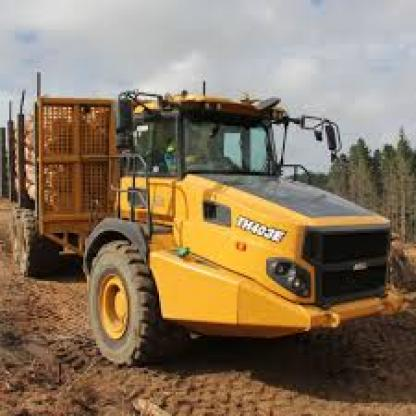dump_truck: (63, 76, 403, 375)
